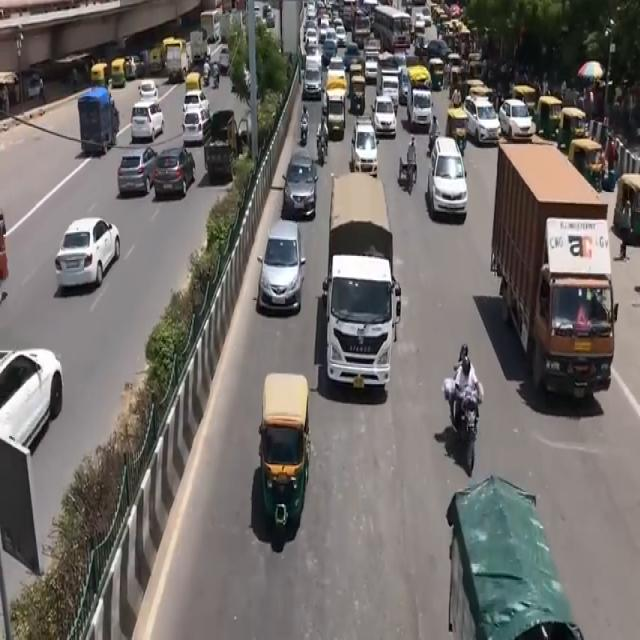BUS: (372, 7, 413, 54)
TRUCK: (492, 144, 617, 409), (323, 172, 391, 403)
